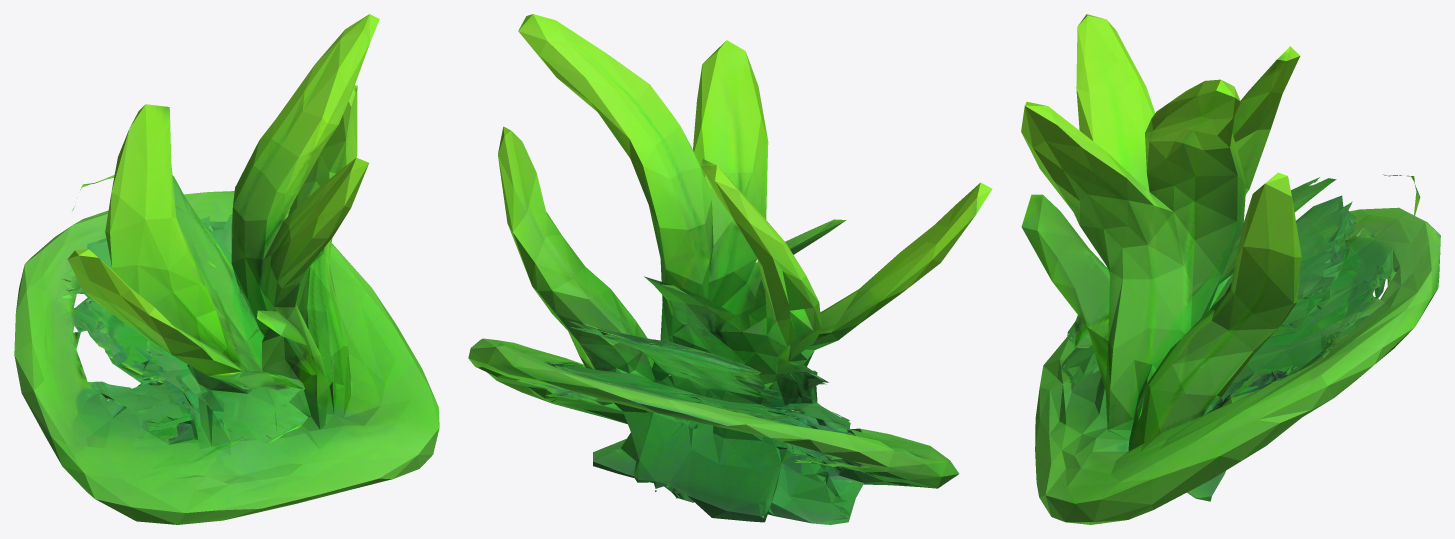
The model's file is Turbo de Alga.fbx.
The picture shows the model from 3 angles, left to right: view 1: azimuth 30°, elevation 25°; view 2: azimuth 150°, elevation 25°; view 3: azimuth 270°, elevation 25°; orthographic projection. The views are drawn at different scales.
Visible parts, largest first — view 1: temp; view 2: temp; view 3: temp.
Boxes of the visible parts, bbox=[...] form: temp: bbox=[14, 14, 439, 524]; temp: bbox=[468, 14, 992, 524]; temp: bbox=[1021, 14, 1440, 524].
Size of the model in its own units: 199 by 201 by 169.
Materials: 1 (1 with a texture image).
